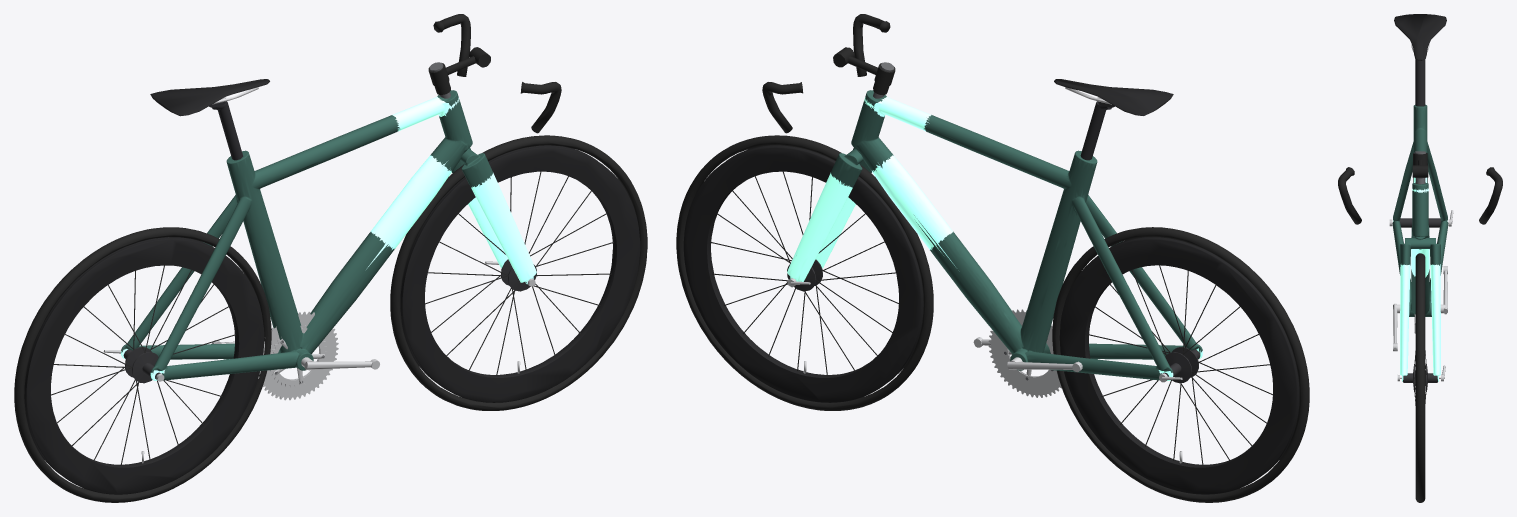
File: bike_lite.glb
3 views of the same model, side by side, from view 1: azimuth 30°, elevation 25°; view 2: azimuth 150°, elevation 25°; view 3: azimuth 270°, elevation 25° (orthographic). The views are drawn at different scales.
Visible parts, largest first — view 1: rim_front, fork, tyre_front, dropbar, saddle; view 2: rim_front, fork, tyre_front, dropbar, saddle; view 3: fork, dropbar, tyre_front, saddle.
Part boxes in pixels (<box>): rim_front: <box>24,145,640,494</box>; fork: <box>121,90,536,380</box>; tyre_front: <box>14,135,647,502</box>; dropbar: <box>51,14,613,465</box>; saddle: <box>150,79,269,116</box>; rim_front: <box>683,145,1299,494</box>; fork: <box>787,90,1202,380</box>; tyre_front: <box>676,135,1309,502</box>; dropbar: <box>710,14,1272,465</box>; saddle: <box>1054,79,1173,115</box>; fork: <box>1392,104,1448,381</box>; dropbar: <box>1338,44,1502,405</box>; tyre_front: <box>1415,253,1425,502</box>; saddle: <box>1394,14,1446,60</box>.
Size of the model in its own units: 1.66 by 0.9824 by 0.445.
Materials: 6 (6 with a texture image).
